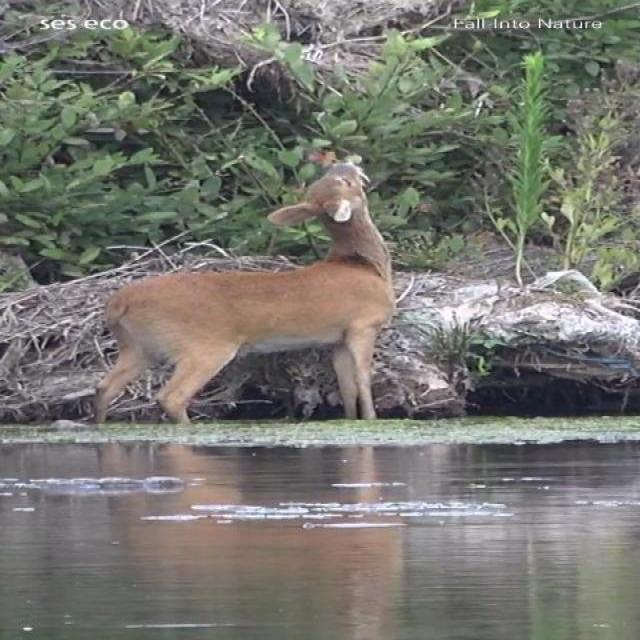deer: (88, 158, 402, 418)
